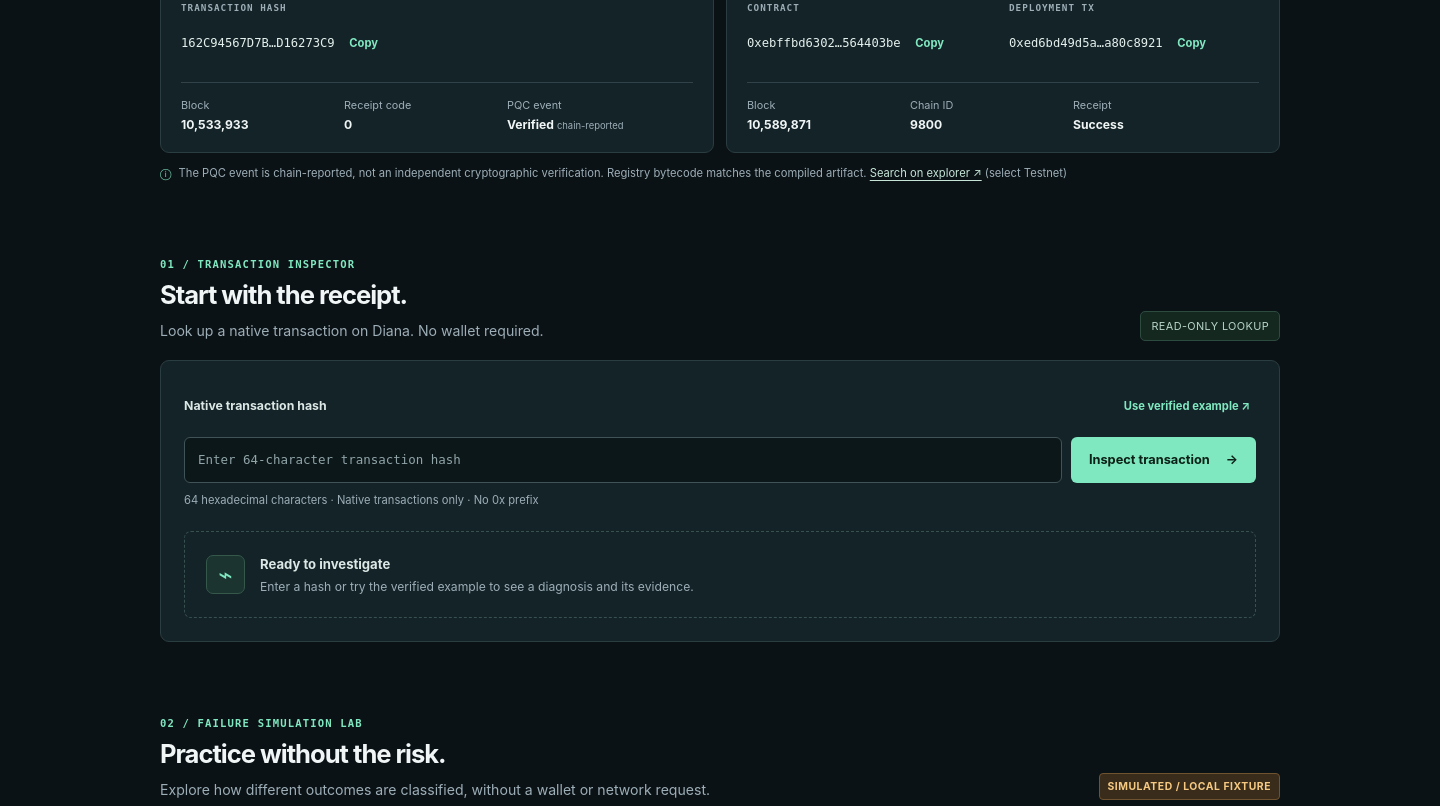
Test: transaction workspace › does not display a mismatched receipt as transaction evidence
(page scrolled)
Click the button "Use verified example ↗": click(1187, 406) [1118,384,1256,428]
(page scrolled)
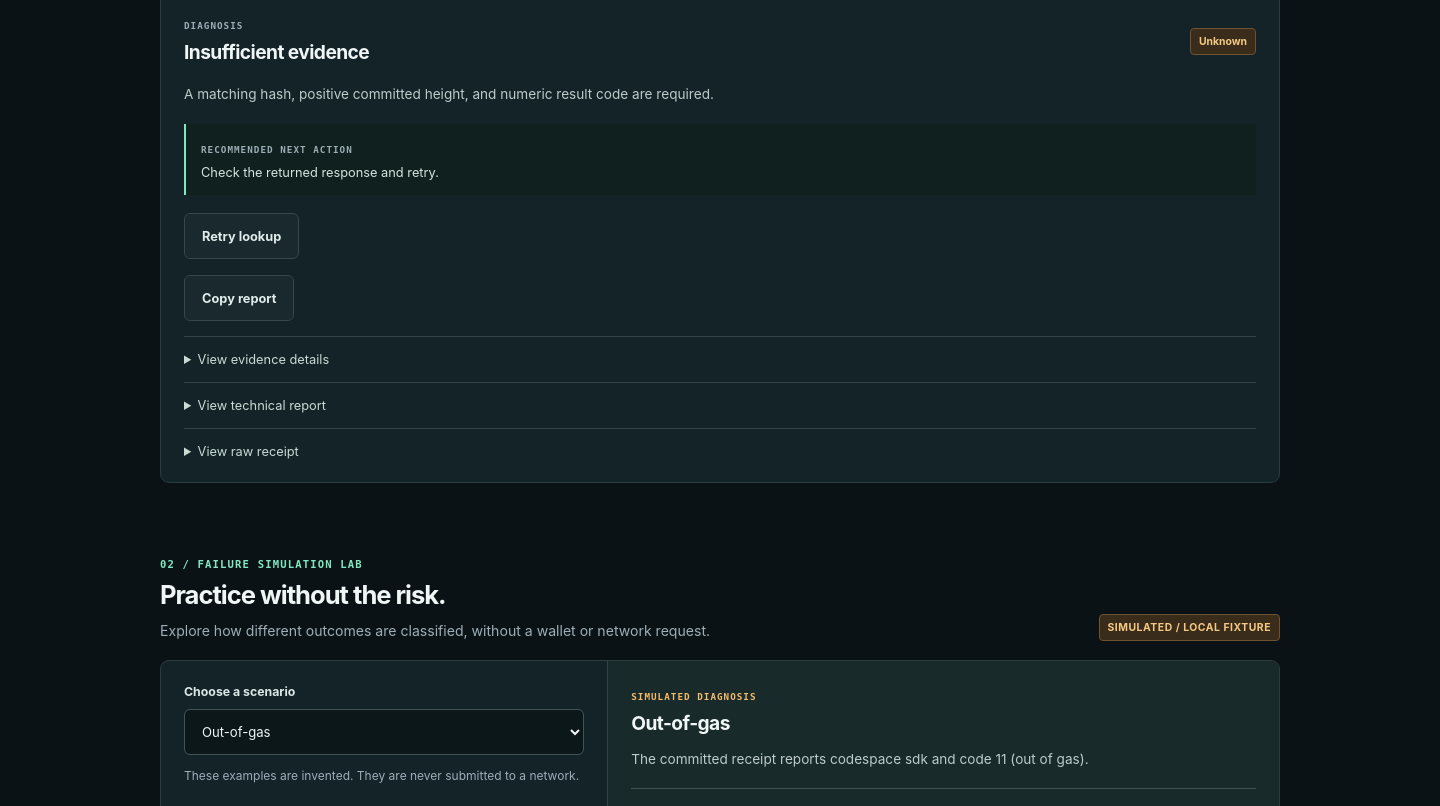
Expected: the heading "Insufficient evidence" is shown, [184,40,369,64]
Expected: the button "Retry lookup" is shown, [184,213,299,259]
Click the heading "View technical report": click(262, 406) [198,398,326,413]
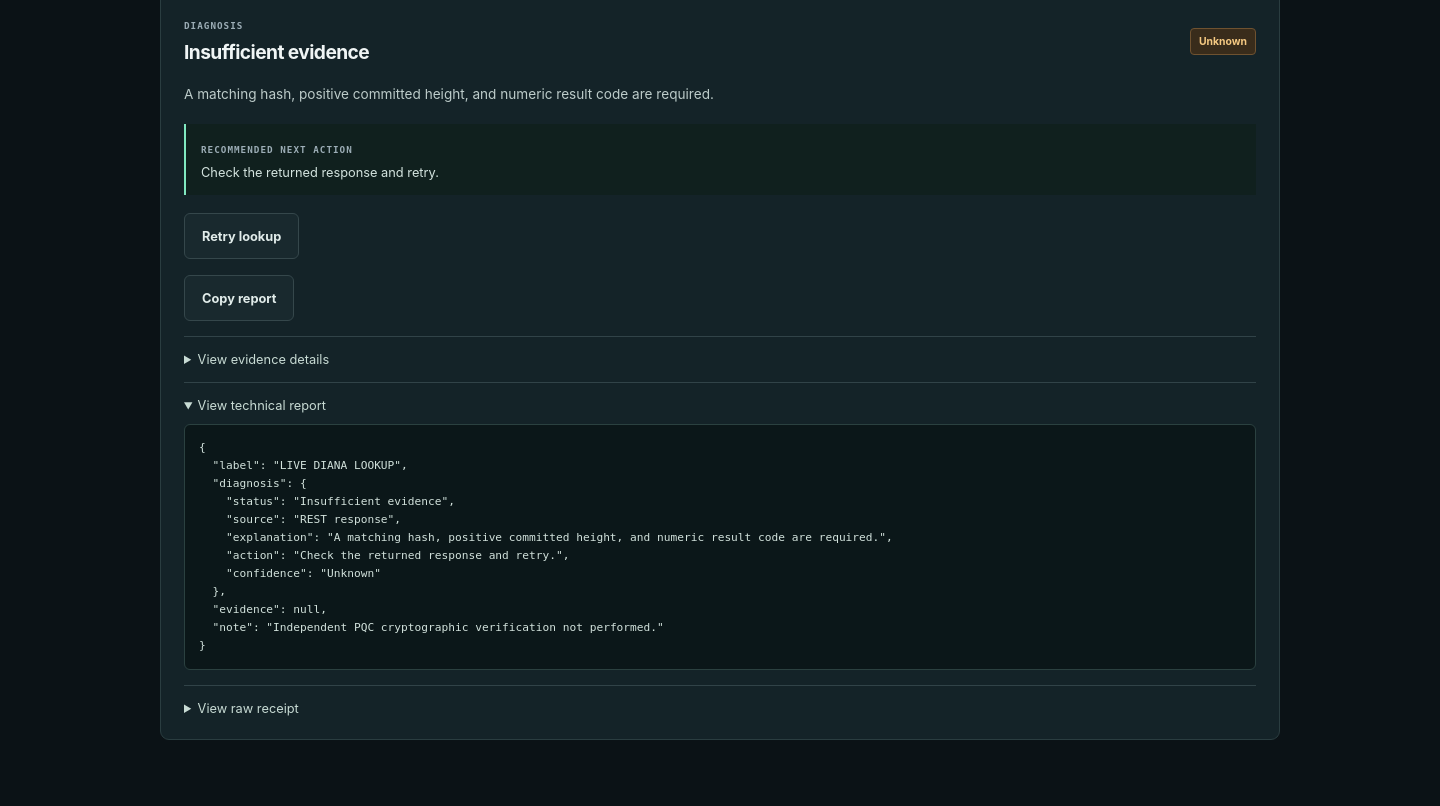
Expected: the text "\"evidence\": null" is shown, [199,442,893,652]
Click the heading "View raw receipt": click(248, 708) [198,700,299,716]
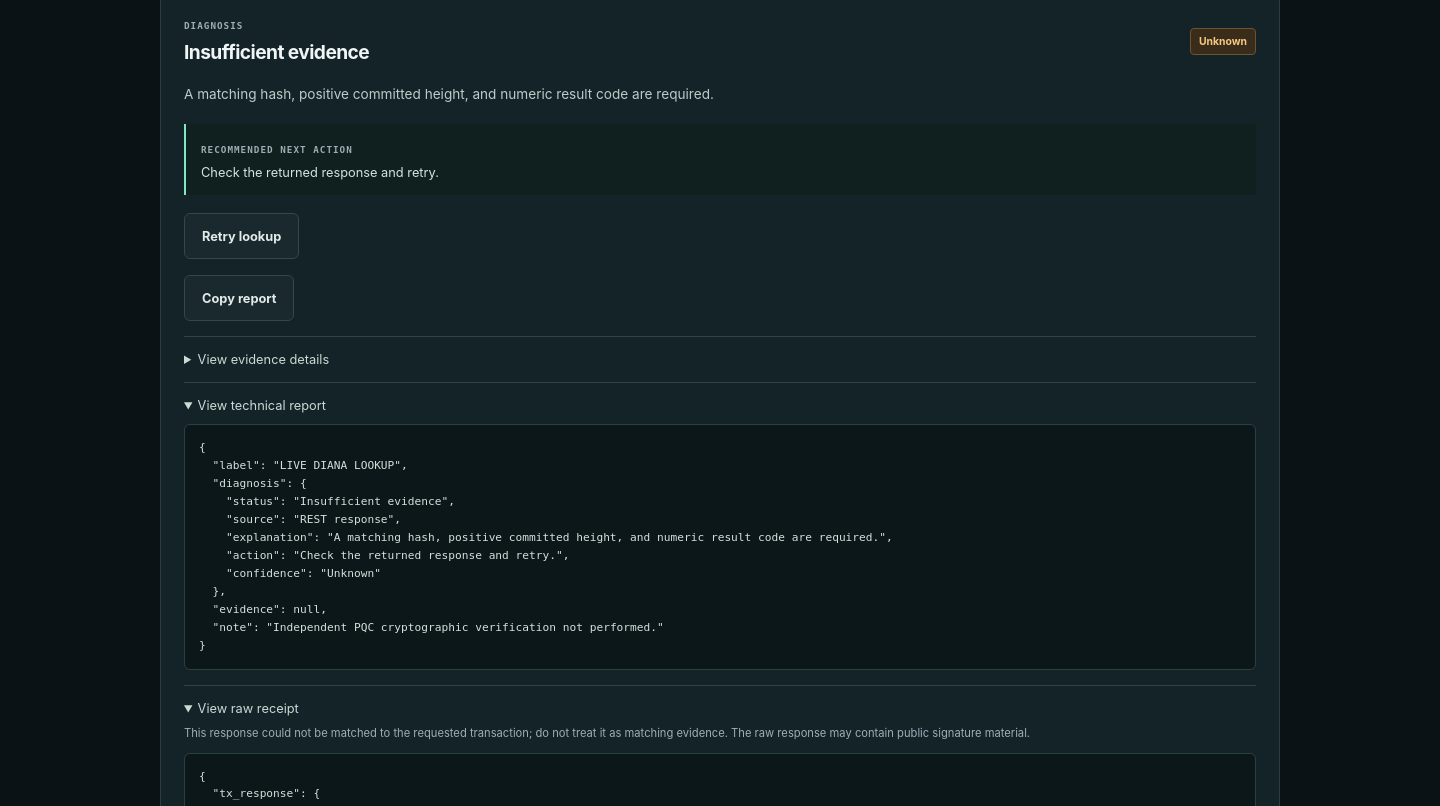
Expected: the text "do not treat it as matching evidence" is shown, [184,726,731,740]
